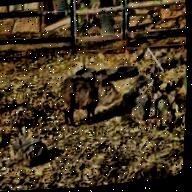boar: (45, 56, 128, 135)
